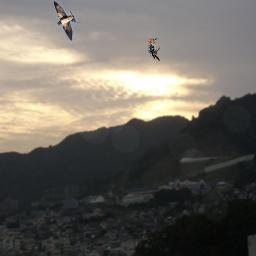Swallow: (54, 1, 81, 41)
Woodpecker: (147, 37, 160, 62)
